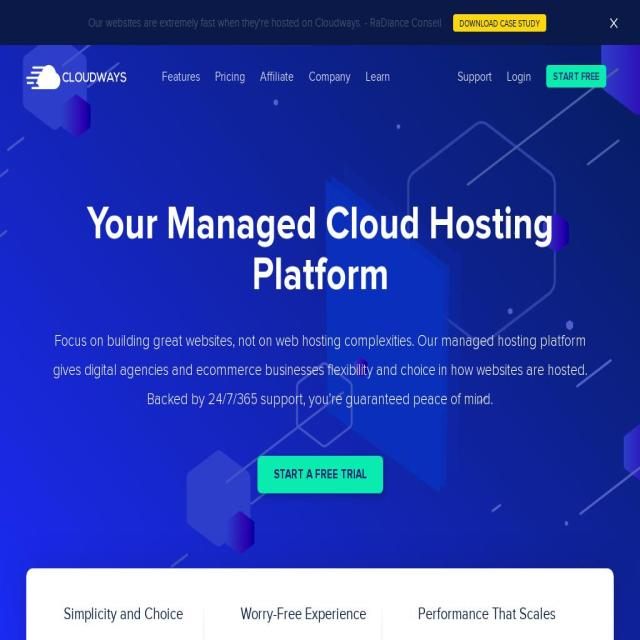button: (88, 12, 546, 31), (257, 456, 383, 493), (26, 61, 126, 91), (308, 68, 351, 108), (162, 68, 200, 108), (546, 64, 606, 88), (457, 68, 492, 108), (260, 68, 294, 108), (215, 68, 245, 108), (366, 68, 390, 108), (507, 68, 531, 108)
heading: (26, 200, 614, 302), (240, 606, 400, 622), (64, 606, 222, 622), (418, 606, 576, 622)
image: (608, 15, 620, 32)
text: (39, 327, 601, 414), (88, 15, 444, 30), (452, 13, 546, 32)
